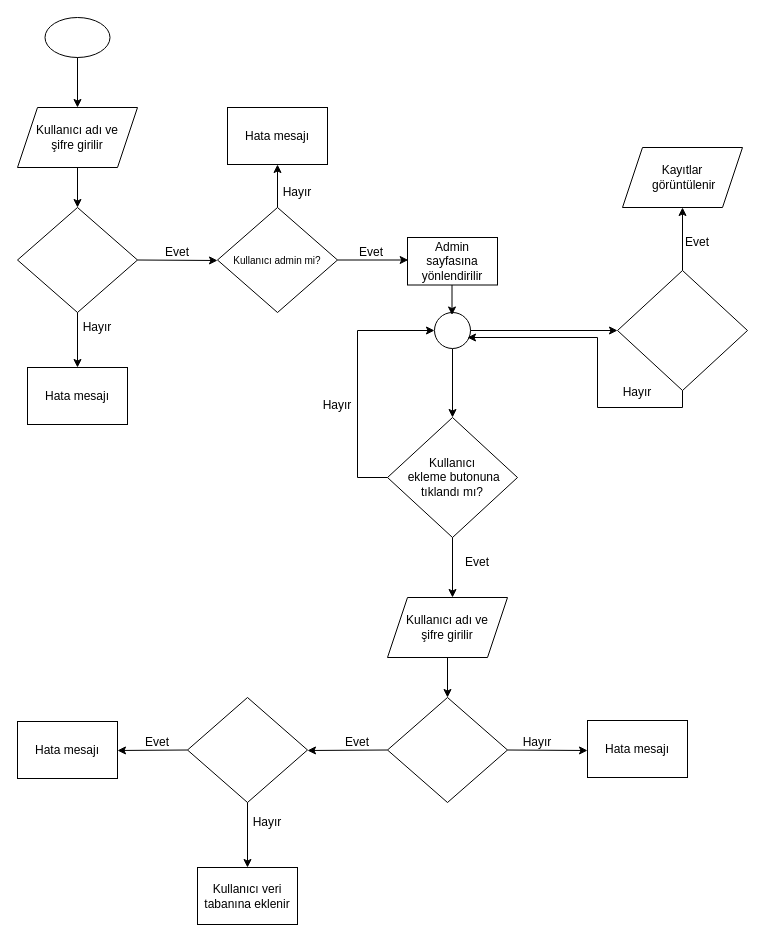
The diagram is 765 pixels wide and 942 high, and some of its shapes have lost their labels. Each missing label, with the centre of its shape:
"Başla" belongs at [77,37].
"Kullanıcı adı veri tabanında kayıtlı mı?" belongs at [247,749].
"Rapor butonuna tıklandı mı?" belongs at [682,330].
"Veri tabanında kullanıcı adı ve şifre eşleşiyor mu?" belongs at [77,259].
"Şifreler eşleşiyor mu?" belongs at [447,749].
